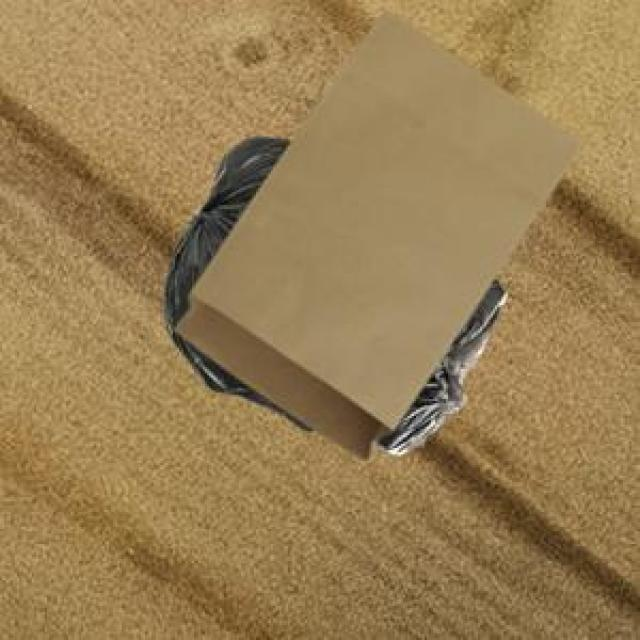miscellaneous trash: (160, 132, 501, 450)
paper: (171, 6, 578, 454)
